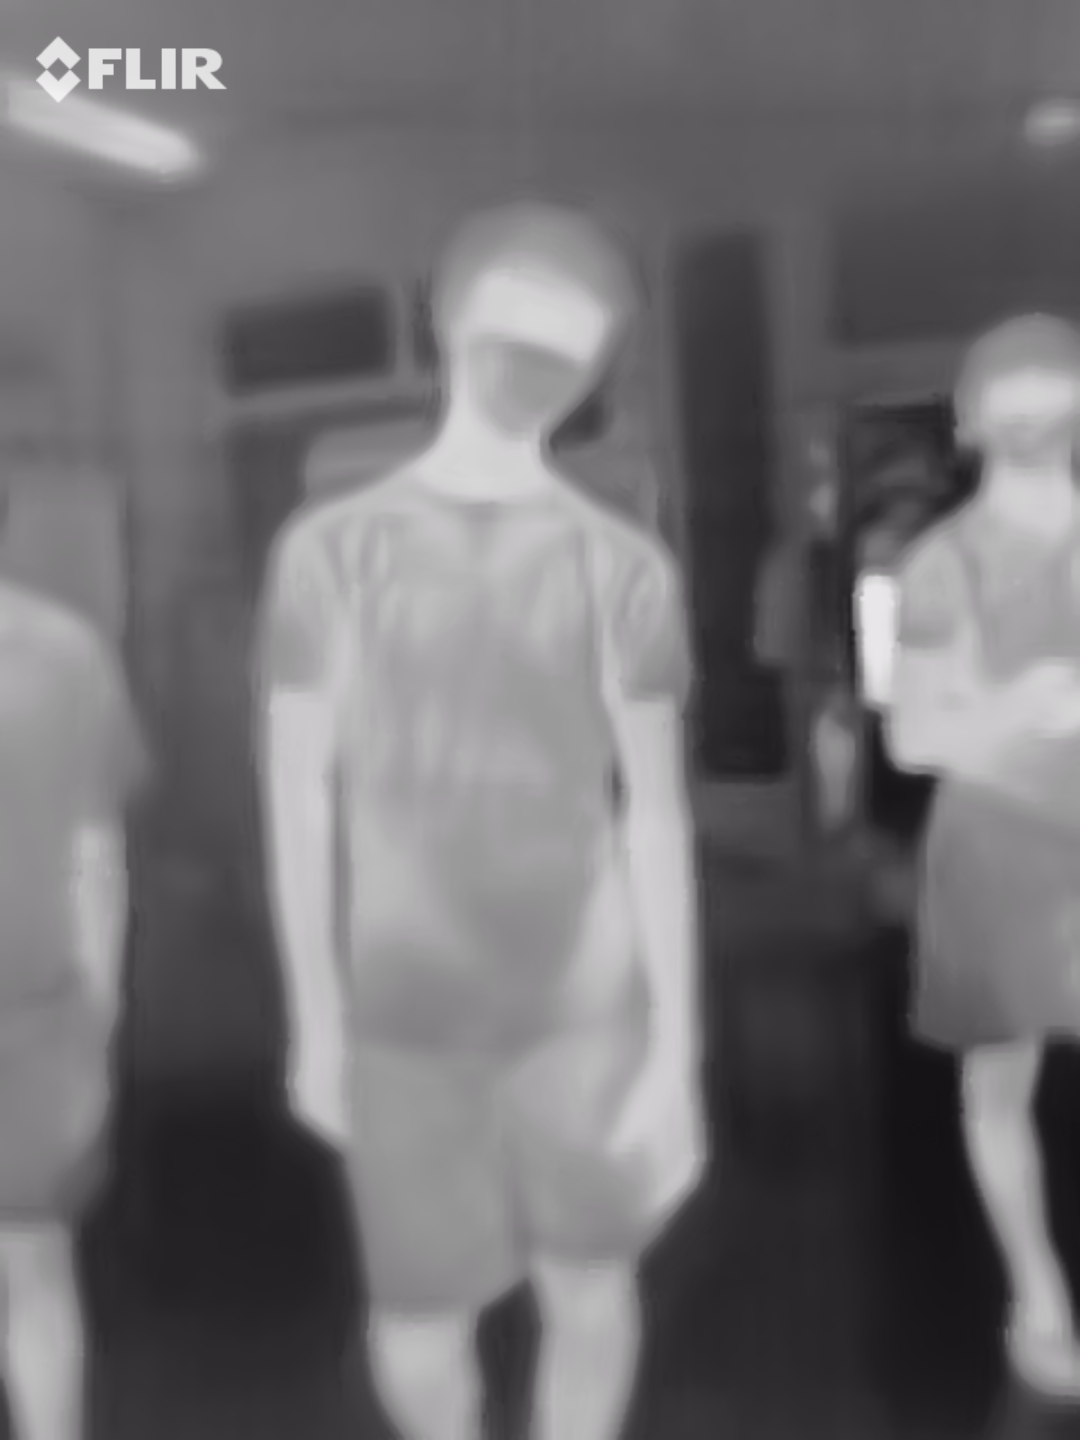head: (430, 198, 623, 448), (951, 306, 1080, 478)
